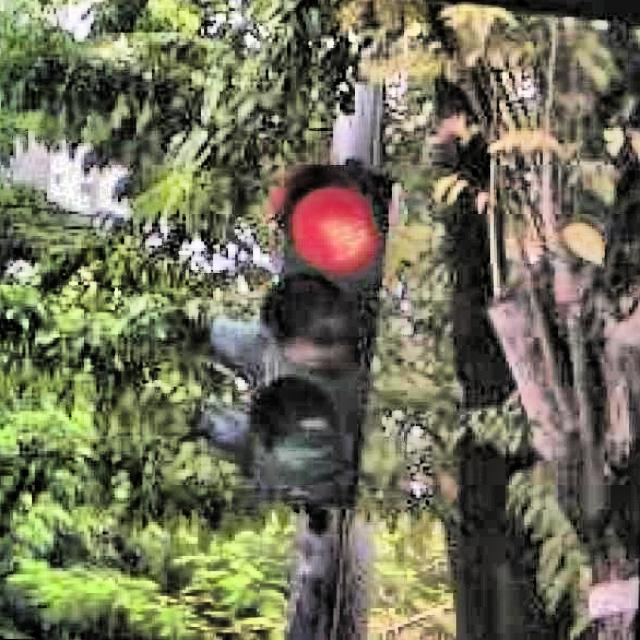red: (245, 166, 382, 496)
